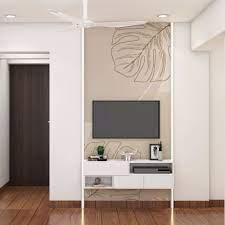TV: (89, 96, 165, 139)
door: (6, 60, 51, 189)
fan: (49, 2, 149, 34)
light: (4, 8, 19, 26), (157, 12, 177, 24)
table: (82, 158, 177, 220)
